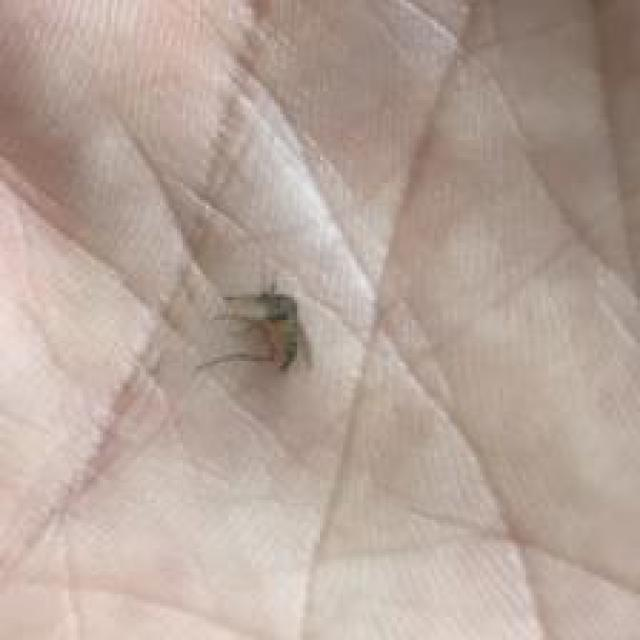Culex: (194, 287, 306, 376)
